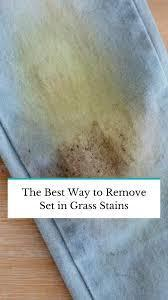earth: (20, 34, 140, 175)
